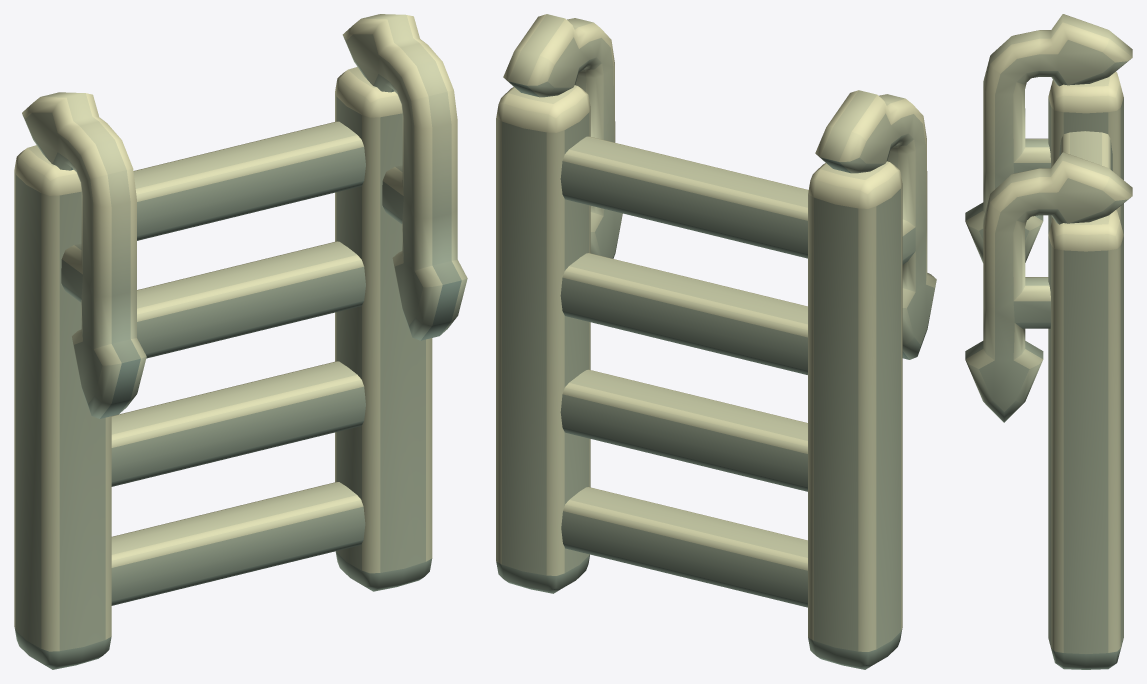
The model's file is Stone_Ladder_Top_Light.fbx.
The picture shows the model from 3 angles, left to right: view 1: azimuth 30°, elevation 25°; view 2: azimuth 150°, elevation 25°; view 3: azimuth 270°, elevation 25°; orthographic projection. The views are drawn at different scales.
Visible parts, largest first — view 1: Stone_Ladder_Top_Light_LOD0; view 2: Stone_Ladder_Top_Light_LOD0; view 3: Stone_Ladder_Top_Light_LOD0.
Boxes of the visible parts, x1,y1,x2,y2 form: Stone_Ladder_Top_Light_LOD0: (14,14,467,669); Stone_Ladder_Top_Light_LOD0: (496,14,936,669); Stone_Ladder_Top_Light_LOD0: (965,14,1132,669).
Size of what is drawn, in the model's own units: 0.8613 by 1.19 by 0.3586.
